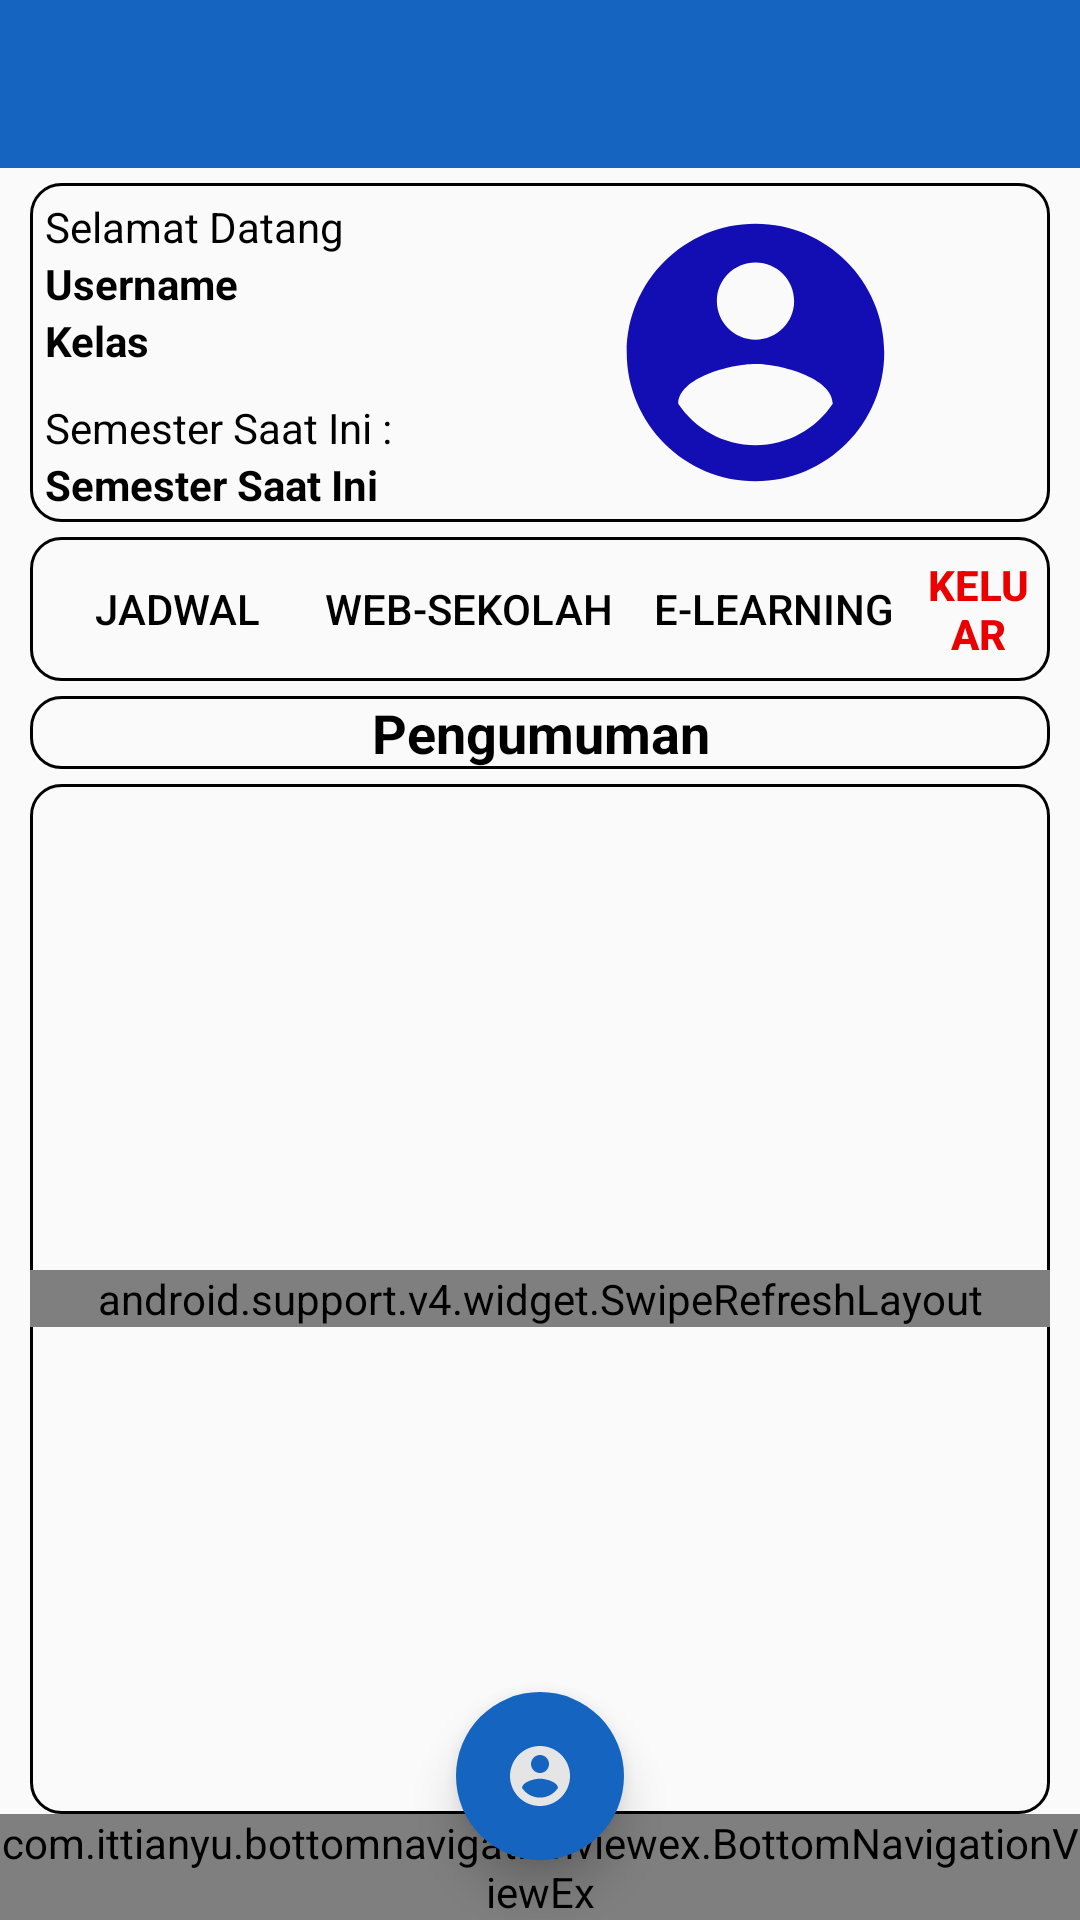

Named icons in this screenshot (1080px x 1920px) and their centers, (x=x, y=y):
account: (x=755, y=352), (x=540, y=1776)
